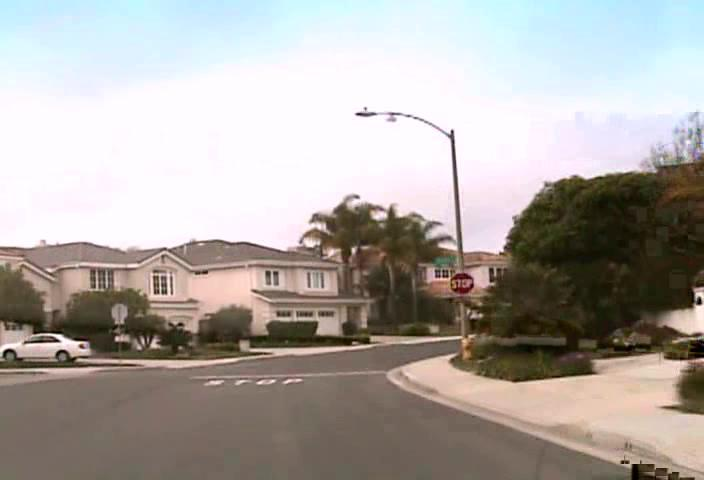stop: (449, 271, 474, 295)
